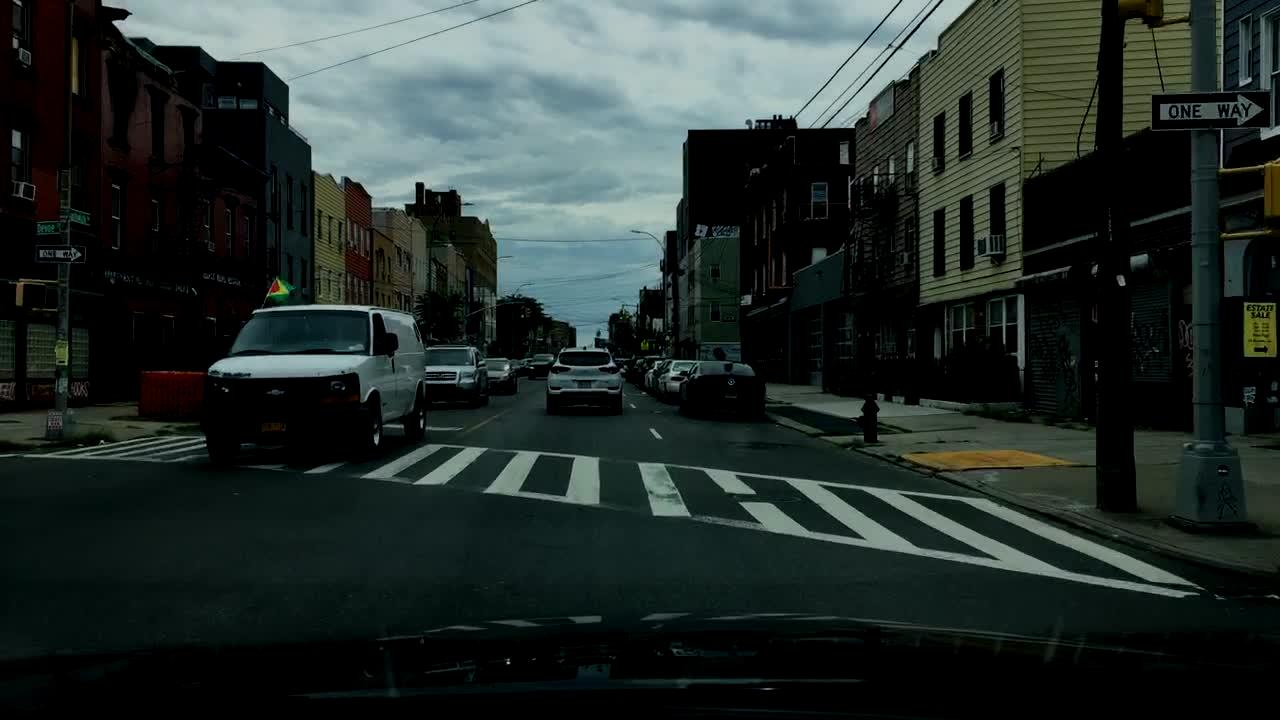chevrolet: (263, 387, 288, 402)
